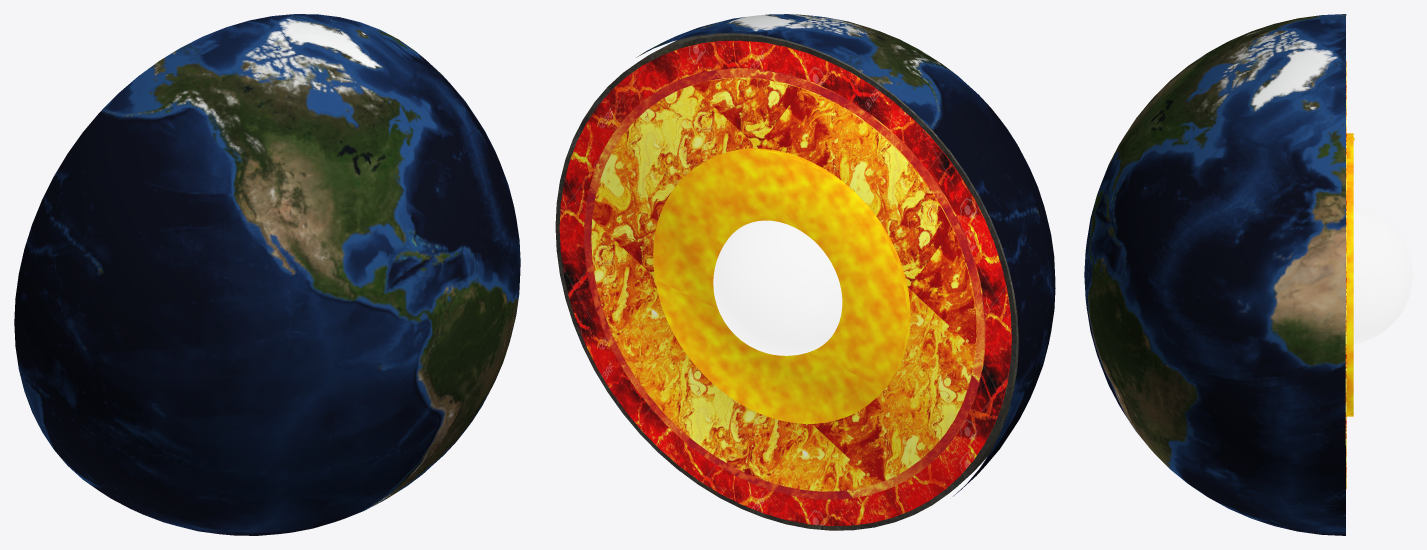
File: Modelo_estatico.glb
The picture shows the model from 3 angles, left to right: view 1: azimuth 30°, elevation 25°; view 2: azimuth 150°, elevation 25°; view 3: azimuth 270°, elevation 25°; orthographic projection. The views are drawn at different scales.
Parts seen in each view (by area): view 1: Cube.001; view 2: Mantle.001, Outer Core, Mantle, Cube.001, Inner Core, Mantle.002, Crust; view 3: Cube.001, Inner Core, Outer Core, Mantle.001.
Part boxes in pixels (x1=…): Cube.001: x1=14, y1=14, x2=520, y2=535; Mantle.001: x1=591, y1=77, x2=976, y2=491; Outer Core: x1=653, y1=148, x2=910, y2=423; Mantle: x1=559, y1=40, x2=1011, y2=525; Cube.001: x1=636, y1=14, x2=1055, y2=496; Inner Core: x1=713, y1=220, x2=842, y2=355; Mantle.002: x1=584, y1=68, x2=985, y2=499; Crust: x1=555, y1=33, x2=1018, y2=530; Cube.001: x1=1084, y1=14, x2=1346, y2=535; Inner Core: x1=1353, y1=205, x2=1412, y2=344; Outer Core: x1=1346, y1=133, x2=1354, y2=416; Mantle.001: x1=1345, y1=60, x2=1346, y2=489.
Bounding box in the file's own units: 1.98 × 1.97 × 1.24.
Materials: 8 (7 with a texture image).
